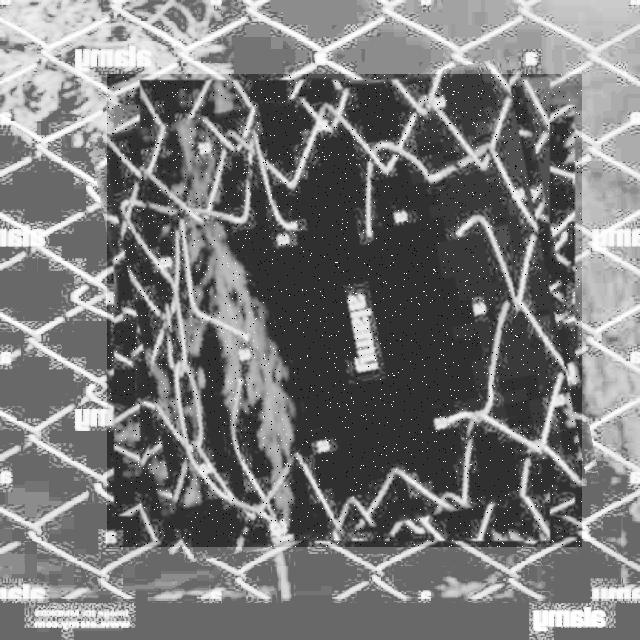anomaly-fence: (107, 74, 582, 547)
